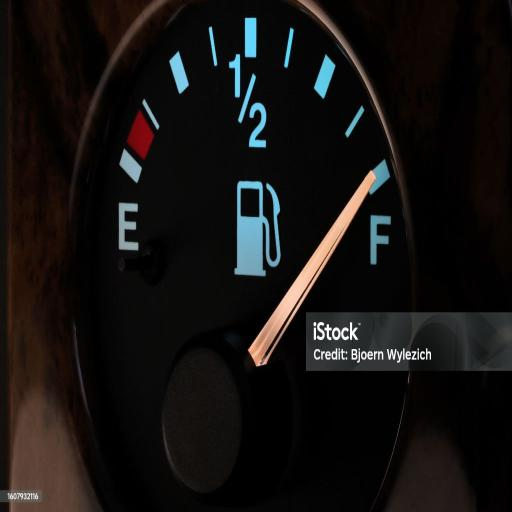empty: (113, 197, 143, 257)
fuel_icon: (236, 176, 280, 278)
full: (362, 214, 394, 264)
guage_area: (64, 0, 428, 512)
needle_center: (159, 353, 251, 493)
needle_tip: (361, 169, 380, 199)
